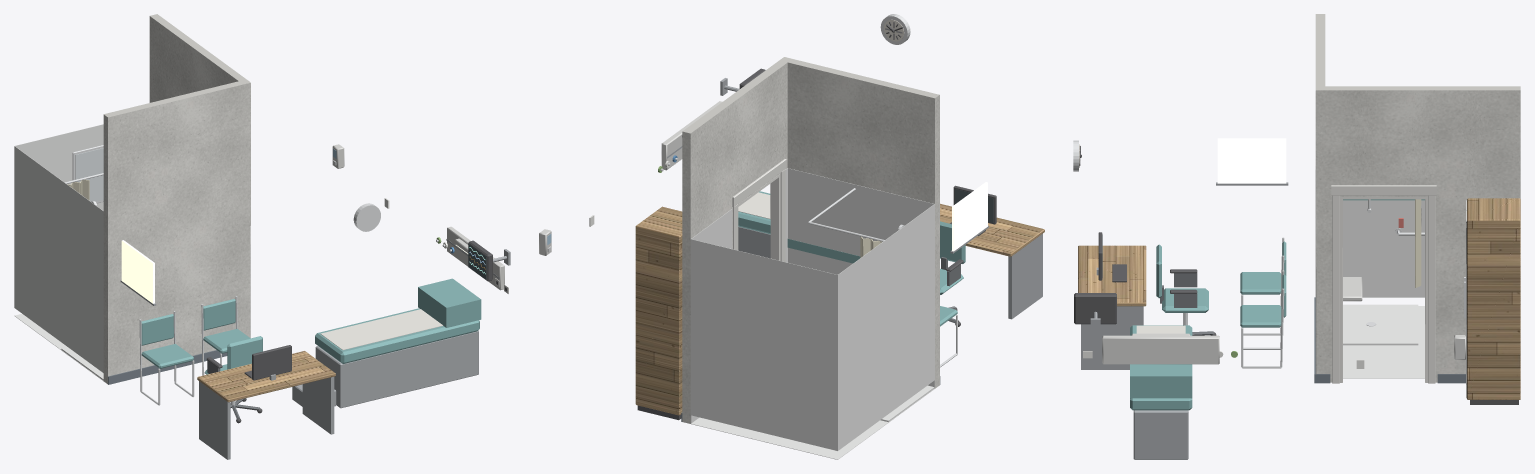
File: room_exam_388x458.glb
The picture shows the model from 3 angles, left to right: view 1: azimuth 30°, elevation 25°; view 2: azimuth 150°, elevation 25°; view 3: azimuth 270°, elevation 25°; orthographic projection. The views are drawn at different scales.
Parts seen in each view (by area): view 1: room_exam_388x458_plaster, room_exam_388x458_tile_c, room_exam_388x458_steel, room_exam_388x458_vinyl_t, room_exam_388x458_laminate, room_exam_388x458_paper, room_exam_388x458_chrome, room_exam_388x458_dark, room_exam_388x458_lamp_glass, room_exam_388x458_cart_w, room_exam_388x458_mirror, room_exam_388x458_vinyl; view 2: room_exam_388x458_tile_c, room_exam_388x458_plaster, room_exam_388x458_laminate, room_exam_388x458_steel, room_exam_388x458_frame, room_exam_388x458_vinyl_t, room_exam_388x458_lamp_glass, room_exam_388x458_cart_w, room_exam_388x458_chrome, room_exam_388x458_dark, room_exam_388x458_paper; view 3: room_exam_388x458_plaster, room_exam_388x458_laminate, room_exam_388x458_tile_c, room_exam_388x458_vinyl_t, room_exam_388x458_frame, room_exam_388x458_steel, room_exam_388x458_cart_w, room_exam_388x458_lamp_glass, room_exam_388x458_dark, room_exam_388x458_chrome, room_exam_388x458_steel_d, room_exam_388x458_curtain2 (+1 smaller).
Part boxes in pixels (x1,y1,x2,y2): room_exam_388x458_plaster: [103, 14, 250, 384]; room_exam_388x458_tile_c: [14, 124, 103, 380]; room_exam_388x458_steel: [120, 239, 510, 459]; room_exam_388x458_vinyl_t: [141, 278, 481, 374]; room_exam_388x458_laminate: [197, 351, 335, 402]; room_exam_388x458_paper: [321, 309, 443, 350]; room_exam_388x458_chrome: [65, 145, 451, 405]; room_exam_388x458_dark: [206, 240, 506, 423]; room_exam_388x458_lamp_glass: [121, 240, 467, 303]; room_exam_388x458_cart_w: [332, 144, 504, 290]; room_exam_388x458_mirror: [75, 148, 103, 201]; room_exam_388x458_vinyl: [108, 350, 227, 384]; room_exam_388x458_tile_c: [690, 168, 934, 459]; room_exam_388x458_plaster: [682, 57, 939, 423]; room_exam_388x458_laminate: [635, 203, 1044, 415]; room_exam_388x458_steel: [667, 78, 1042, 319]; room_exam_388x458_frame: [732, 159, 786, 261]; room_exam_388x458_vinyl_t: [738, 191, 965, 326]; room_exam_388x458_lamp_glass: [952, 182, 987, 251]; room_exam_388x458_cart_w: [539, 101, 722, 255]; room_exam_388x458_chrome: [547, 14, 957, 367]; room_exam_388x458_dark: [637, 22, 996, 420]; room_exam_388x458_paper: [738, 192, 770, 219]; room_exam_388x458_plaster: [1315, 14, 1520, 382]; room_exam_388x458_laminate: [1078, 198, 1520, 399]; room_exam_388x458_tile_c: [1343, 200, 1424, 378]; room_exam_388x458_vinyl_t: [1130, 199, 1424, 410]; room_exam_388x458_frame: [1331, 185, 1436, 383]; room_exam_388x458_steel: [1081, 182, 1288, 459]; room_exam_388x458_cart_w: [1102, 200, 1466, 398]; room_exam_388x458_lamp_glass: [1217, 138, 1286, 183]; room_exam_388x458_dark: [1074, 146, 1518, 404]; room_exam_388x458_chrome: [1073, 140, 1465, 368]; room_exam_388x458_steel_d: [1160, 273, 1213, 335]; room_exam_388x458_curtain2: [1415, 199, 1421, 287].
Size of the model in its own units: 3.88 by 3.31 by 4.58.
26 materials, 2 textured.
